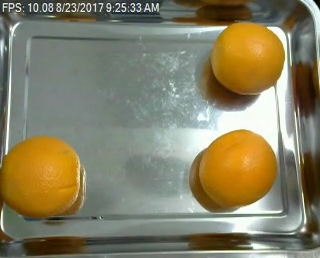Orange: (1, 136, 81, 218), (197, 129, 279, 207), (211, 20, 287, 94)
